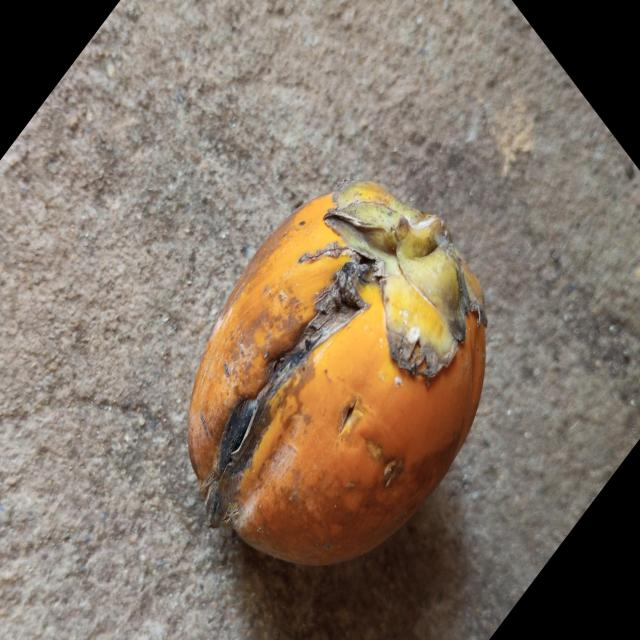damaged: (186, 183, 488, 570)
